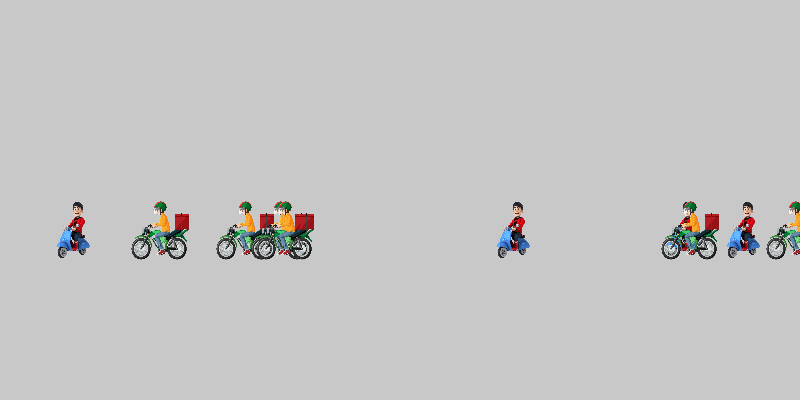helmet: (130, 200, 190, 260), (215, 200, 275, 260), (250, 200, 310, 260), (255, 200, 315, 260), (660, 200, 720, 260), (765, 200, 800, 260)
no_helmet: (45, 200, 105, 260), (485, 200, 545, 260), (655, 200, 715, 260), (715, 200, 775, 260)
